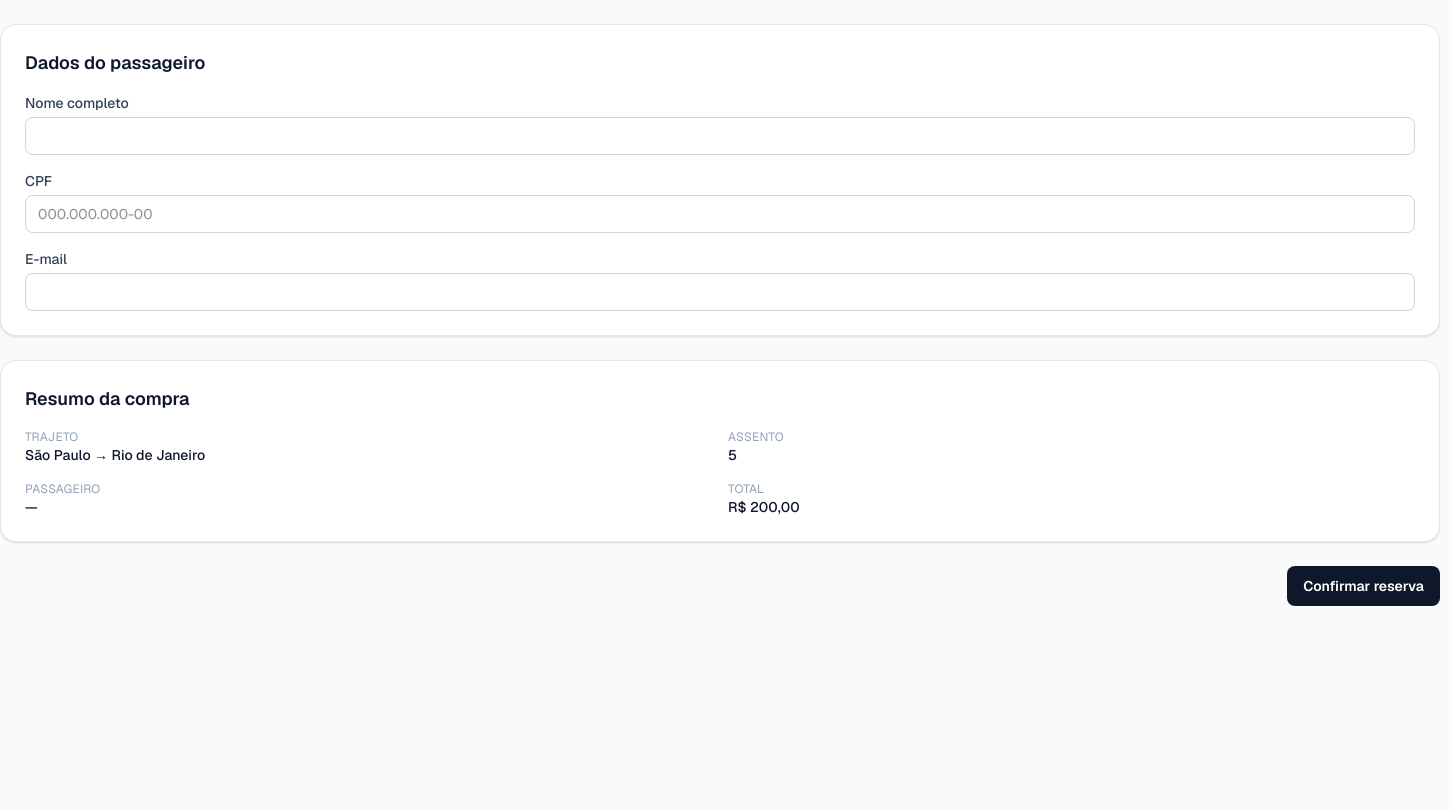
Test case: PassengerForm › rejects an invalid CPF even when other fields are valid
Type "Maria Silva" into the field labelled "Nome completo".
click(720, 136); type("Maria Silva")  # box left=25, top=117, right=1415, bottom=155
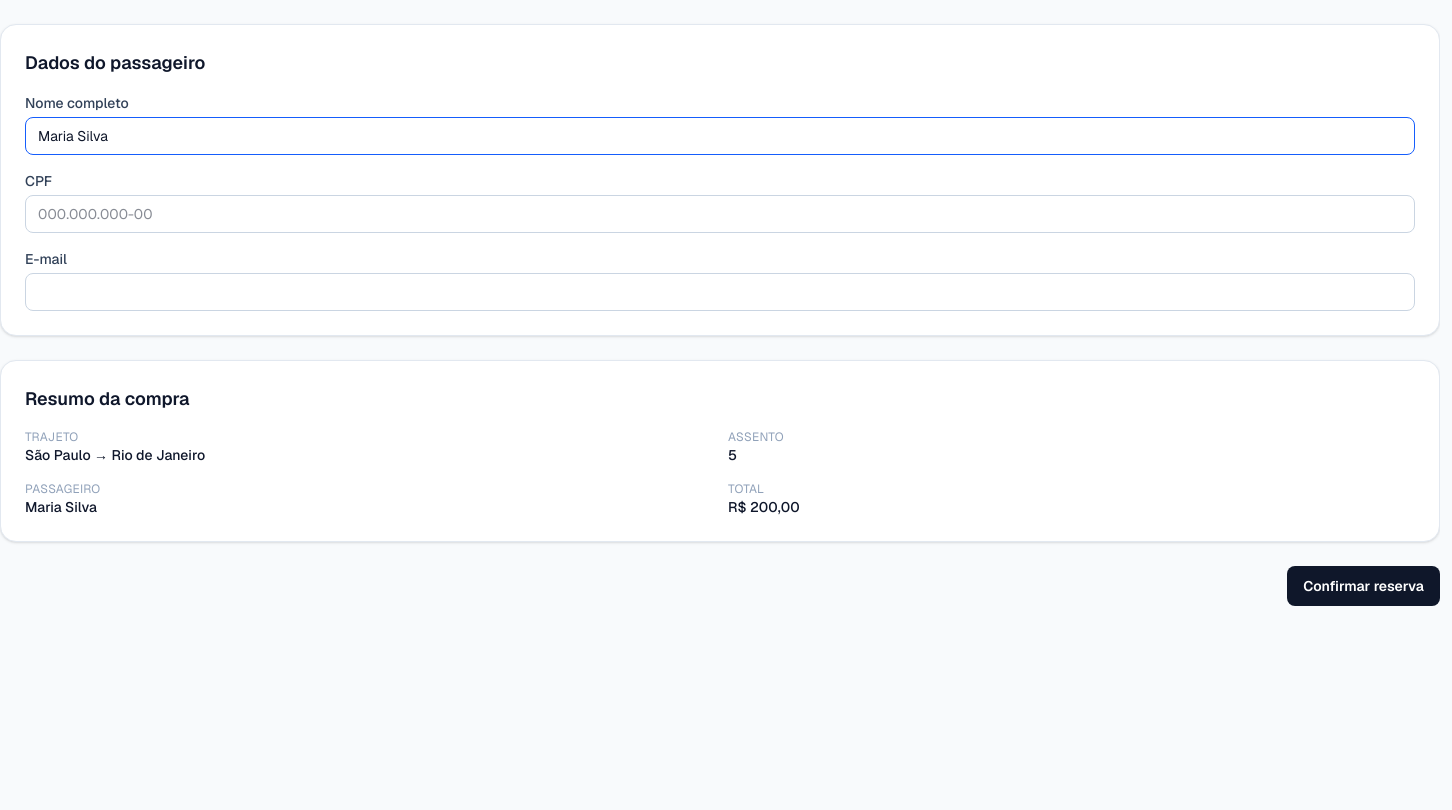
Type "111.111.111-11" into the field labelled "CPF".
click(720, 214); type("111.111.111-11")  # box left=25, top=195, right=1415, bottom=233
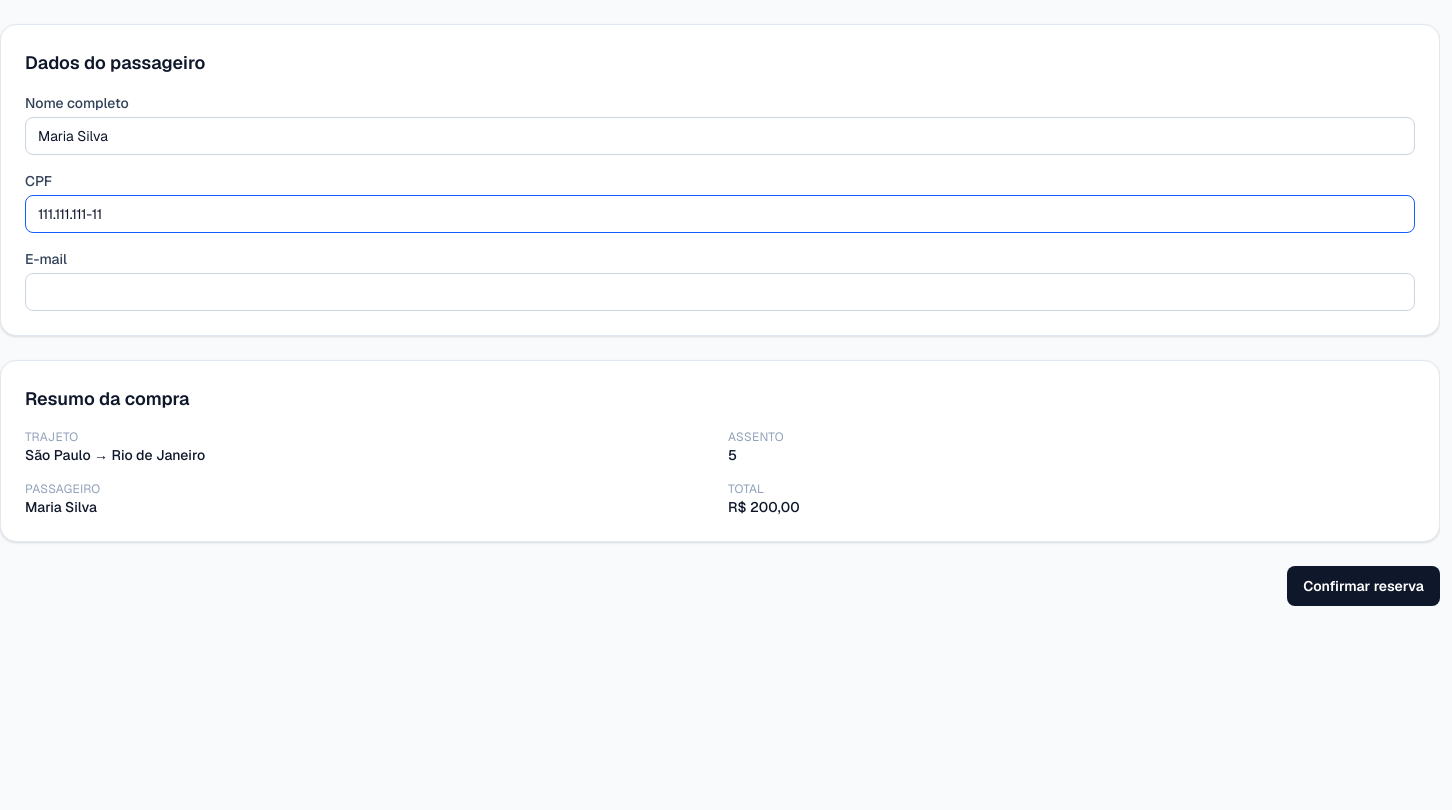
Type "maria@example.com" into the field labelled "E-mail".
click(720, 292); type("maria@example.com")  # box left=25, top=273, right=1415, bottom=311
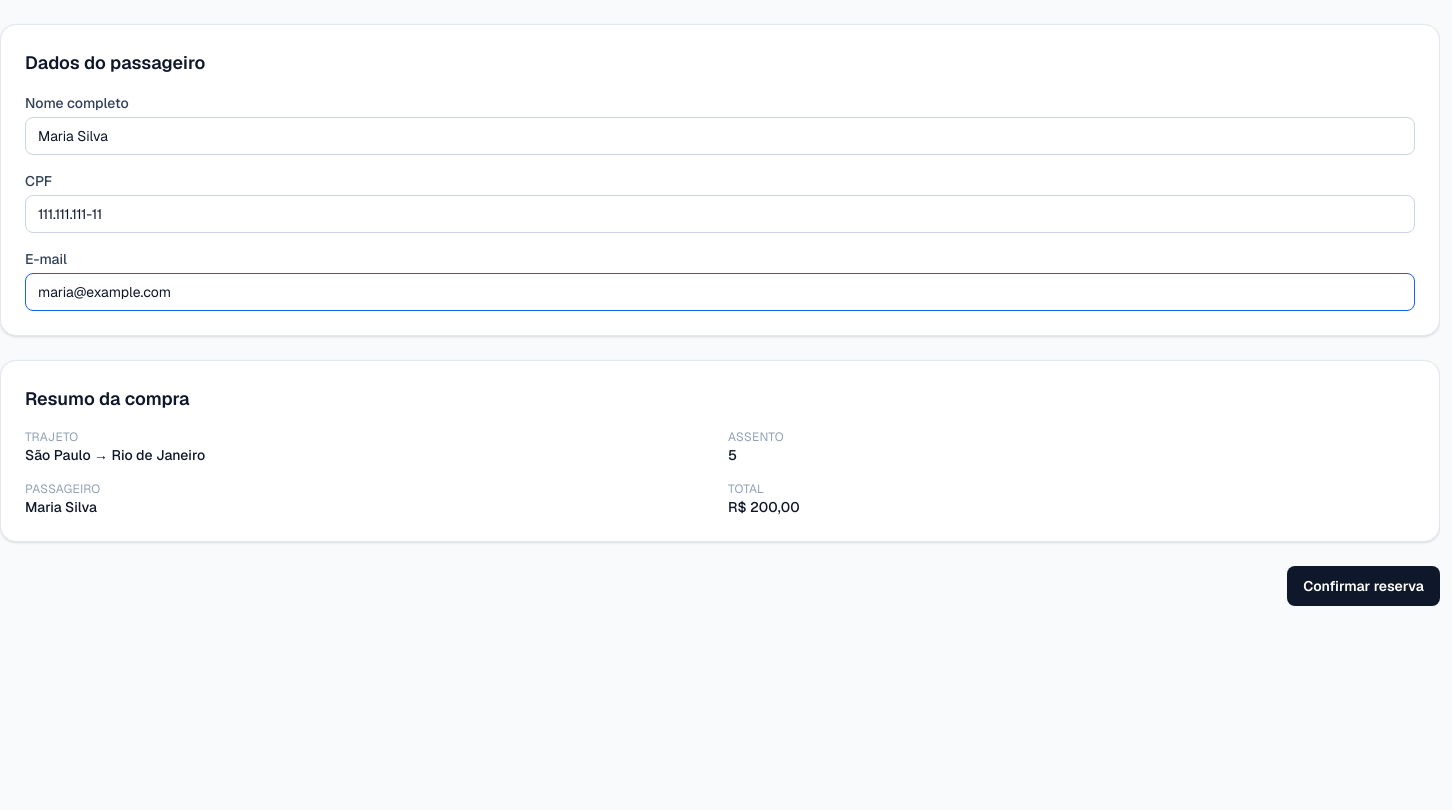
Click the button "Confirmar reserva".
click(1364, 586)  # box left=1287, top=566, right=1440, bottom=606
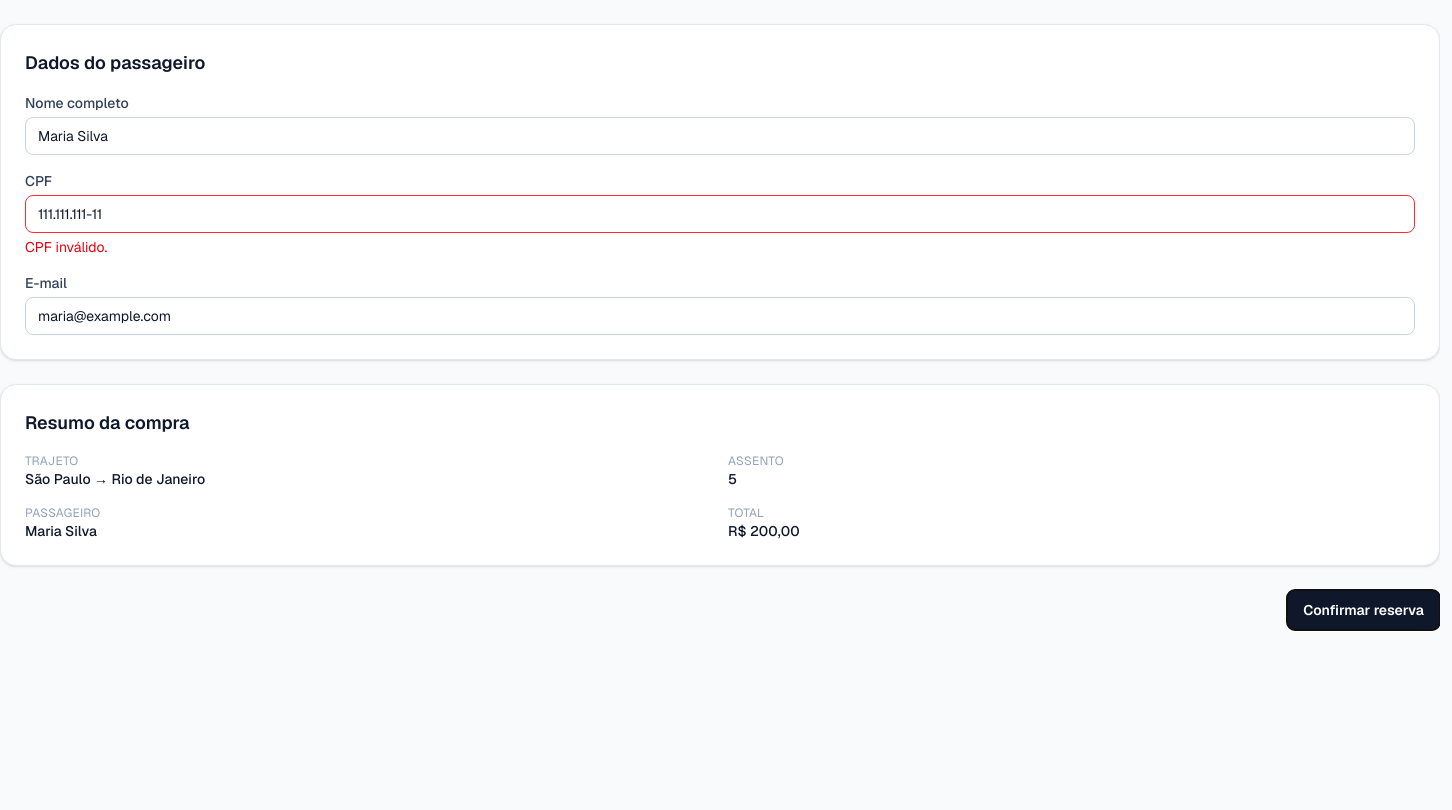
Check: the text "CPF inválido." is shown, box left=25, top=238, right=107, bottom=256
